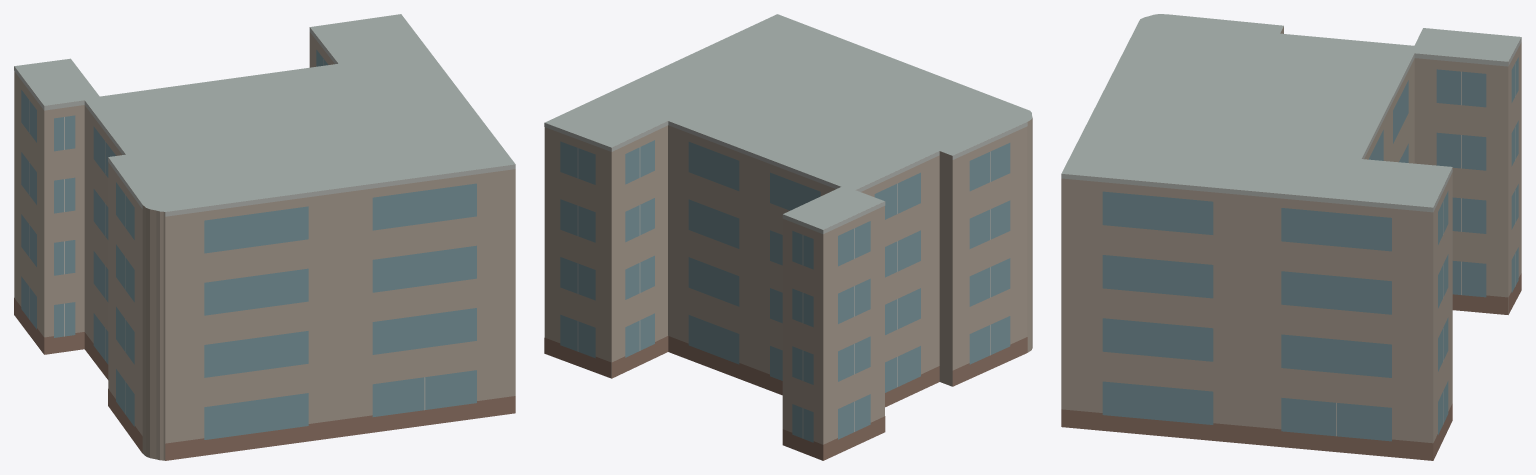
The model's file is survey-upis-32514342.glb.
3 renders of one model, left to right at view 1: azimuth 30°, elevation 25°; view 2: azimuth 150°, elevation 25°; view 3: azimuth 270°, elevation 25°, orthographic. The views are drawn at different scales.
Parts seen in each view (by area): view 1: survey-upis-32514342.tmp; view 2: survey-upis-32514342.tmp; view 3: survey-upis-32514342.tmp.
Part boxes in pixels (x1,y1,x2,y2): survey-upis-32514342.tmp: (14,14,515,460); survey-upis-32514342.tmp: (544,14,1032,460); survey-upis-32514342.tmp: (1061,14,1521,460).
Size of the model in its own units: 21.41 by 13.05 by 21.5.
